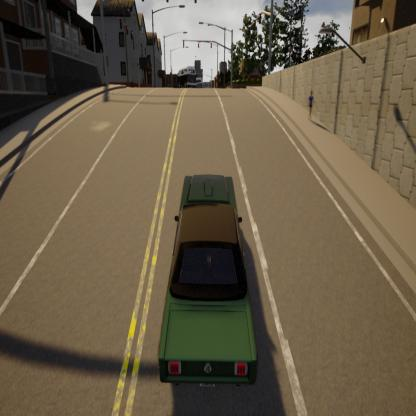Cars: (151, 152, 271, 416), (166, 64, 206, 93)
Pedestrian: (302, 82, 323, 124)
